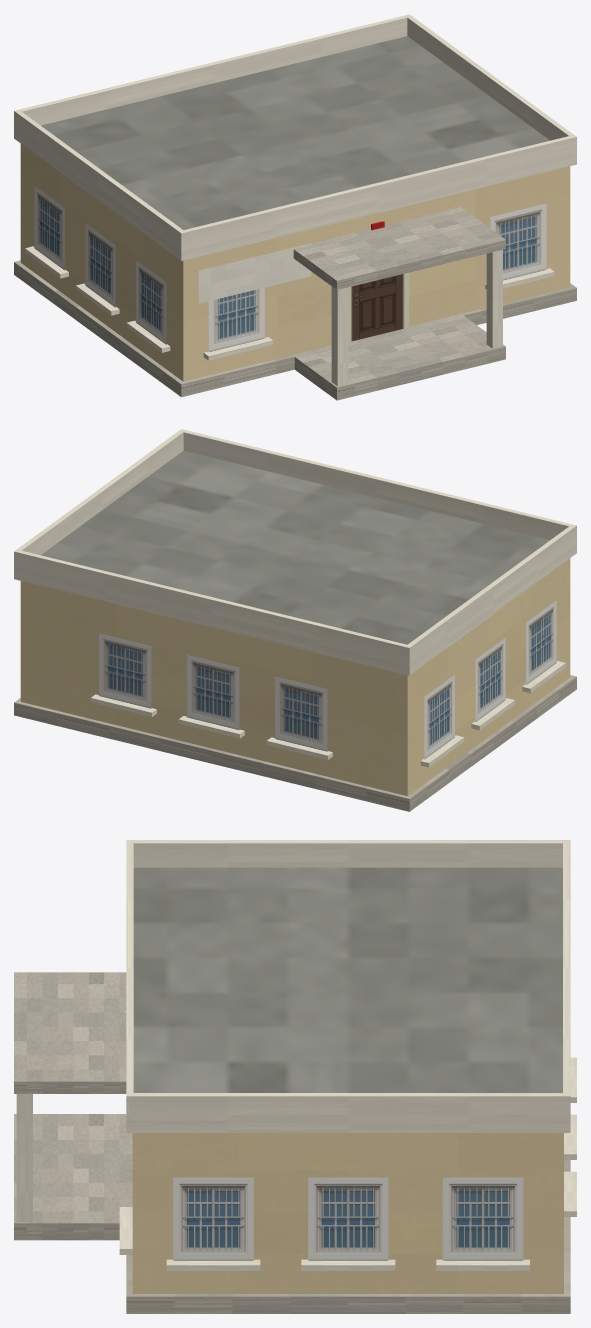
The model's file is clinic-cream.glb.
3 views of the same model, one above another, from view 1: azimuth 30°, elevation 25°; view 2: azimuth 150°, elevation 25°; view 3: azimuth 270°, elevation 25° (orthographic). The views are drawn at different scales.
Parts seen in each view (by area): view 1: clinic-cream, sign_1; view 2: clinic-cream; view 3: clinic-cream.
Part boxes in pixels (bbox=[...]): clinic-cream: bbox=[14, 14, 576, 400]; sign_1: bbox=[198, 243, 311, 303]; clinic-cream: bbox=[14, 429, 576, 811]; clinic-cream: bbox=[14, 840, 576, 1313].
Size of the model in its own units: 11.48 by 4.45 by 10.44.
1 material, 1 textured.
